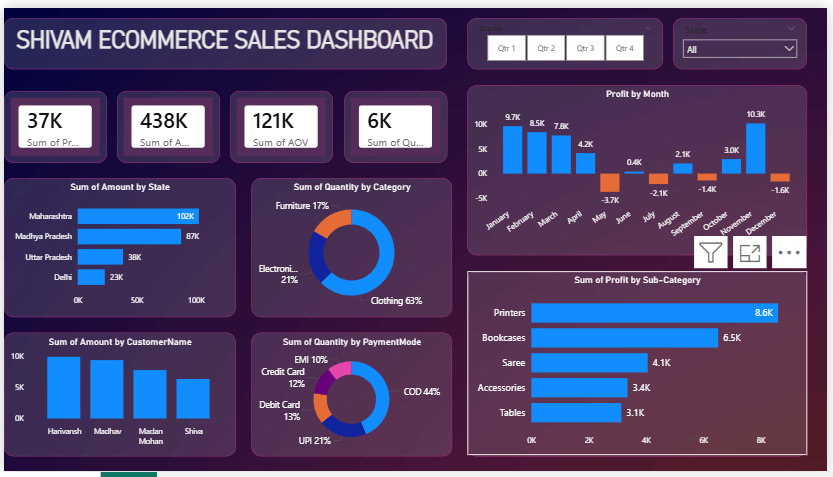

This screenshot's page, from the dashboard's own definition file:
{"tool":"powerbi","page":{"name":"Page 1","canvas":[1280,720],"ordinal":0},"visuals":[{"type":"textbox","box":[0,16,688,80],"z":0},{"type":"columnChart","title":"Profit by Month","fields":{"Category":["Orders.Order Date.Variation.Date Hierarchy.Month"],"Y":["Sum(Details.Profit)"]},"box":[720,120,528,264],"z":1000},{"type":"barChart","fields":{"Category":["Details.Sub-Category"],"Y":["Sum(Details.Profit)"]},"box":[720,408,528,288],"z":2000},{"type":"donutChart","fields":{"Category":["Details.Category"],"Y":["Sum(Details.Quantity)"]},"box":[384,264,312,216],"z":3000},{"type":"donutChart","fields":{"Y":["Sum(Details.Quantity)"],"Category":["Details.PaymentMode"]},"box":[384,504,312,192],"z":4000},{"type":"cardVisual","fields":{"Data":["Sum(Details.Amount)"]},"box":[176,128,160,112],"z":4001},{"type":"cardVisual","fields":{"Data":["Sum(Details.Quantity)"]},"box":[528,128,160,112],"z":4002},{"type":"cardVisual","fields":{"Data":["Sum(Details.Profit)"]},"box":[0,128,160,112],"z":4003},{"type":"cardVisual","fields":{"Data":["Sum(Details.AOV)"]},"box":[352,128,160,112],"z":4004},{"type":"barChart","fields":{"Y":["Sum(Details.Amount)"],"Category":["Orders.State"]},"box":[0,264,360,216],"z":4005},{"type":"columnChart","fields":{"Category":["Orders.CustomerName"],"Y":["Sum(Details.Amount)"]},"box":[0,504,360,192],"z":4006},{"type":"slicer","fields":{"Values":["Orders.Order Date.Variation.Date Hierarchy.Quarter"]},"box":[720,16,304,80],"z":4007},{"type":"slicer","fields":{"Values":["Orders.State"]},"box":[1040,16,208,80],"z":4008}]}

Visuals, with their boxes in screenshot pixels (x1, y1, x2, y2), scaled from the page's 1280x720 canvas onto the 833x477 screenshot:
textbox: l=0, t=11, r=448, b=64
"Profit by Month" columnChart: l=469, t=80, r=812, b=254
barChart - Details.Sub-Category x Sum(Details.Profit): l=469, t=270, r=812, b=461
donutChart - Details.Category x Sum(Details.Quantity): l=250, t=175, r=453, b=318
donutChart - Sum(Details.Quantity) x Details.PaymentMode: l=250, t=334, r=453, b=461
cardVisual - Sum(Details.Amount): l=115, t=85, r=219, b=159
cardVisual - Sum(Details.Quantity): l=344, t=85, r=448, b=159
cardVisual - Sum(Details.Profit): l=0, t=85, r=104, b=159
cardVisual - Sum(Details.AOV): l=229, t=85, r=333, b=159
barChart - Sum(Details.Amount) x Orders.State: l=0, t=175, r=234, b=318
columnChart - Orders.CustomerName x Sum(Details.Amount): l=0, t=334, r=234, b=461
slicer - Orders.Order Date.Variation.Date Hierarchy.Quarter: l=469, t=11, r=666, b=64
slicer - Orders.State: l=677, t=11, r=812, b=64
